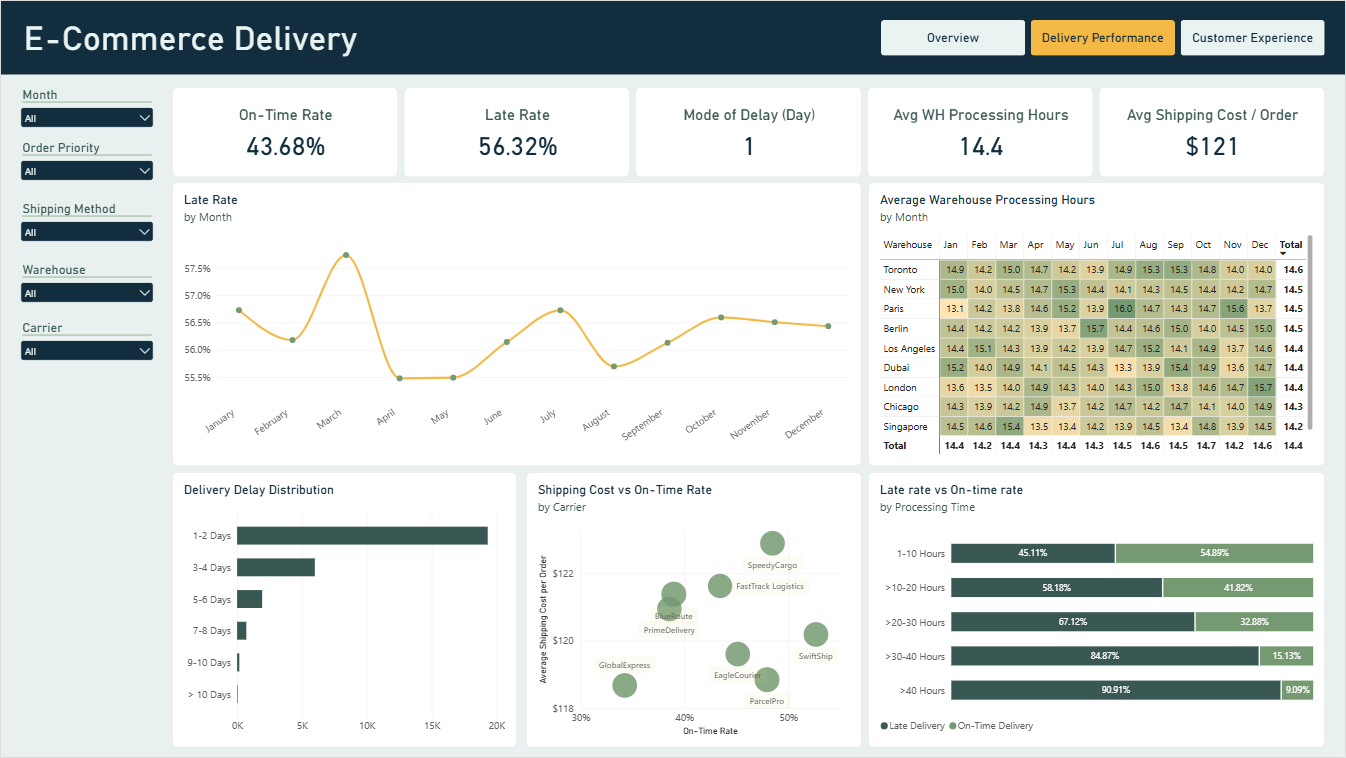

What the dashboard file says about the page in this screenshot:
{"tool":"powerbi","page":{"name":"Delivery Performance","canvas":[1920,1080],"ordinal":1},"visuals":[{"type":"cardVisual","fields":{"Data":["FactOrders.On-Time Rate","FactOrders.Late Rate","FactOrders.Filtered Mode","Avg(FactOrders.warehouse_processing_hours)","FactOrders.Avg Shipping Cost per Order"]},"box":[243.7,122.5,1647.7,129.1],"z":0},{"type":"pivotTable","title":"Average Warehouse Processing Hours","fields":{"Columns":["dimDate.Sort Month"],"Rows":["DimWarehouse.warehouse_city"],"Values":["Avg(FactOrders.warehouse_processing_hours)"]},"box":[1238,258.1,653.3,405.7],"z":1000},{"type":"scatterChart","title":"Shipping Cost vs On-Time Rate","fields":{"Category":["DimShippingCarrier.carrier"],"Size":["FactOrders.Total Orders"],"X":["FactOrders.On-Time Rate"],"Y":["FactOrders.Avg Shipping Cost per Order"]},"box":[749.4,673,480,394.3],"z":2000},{"type":"clusteredBarChart","title":"Delivery Delay Distribution","fields":{"Category":["FactOrders.Delay Days Group"],"Y":["CountNonNull(FactOrders.order_id)"]},"box":[243.7,673,492.6,393.8],"z":3000},{"type":"slicer","fields":{"Values":["FactOrders.shipping_method"]},"box":[22.4,285.1,200,81.7],"z":4000},{"type":"slicer","fields":{"Values":["FactOrders.order_priority"]},"box":[22.4,197.9,200.2,81.7],"z":5000},{"type":"lineChart","fields":{"Category":["dimDate.Month"],"Y":["FactOrders.Late Rate"]},"box":[243.7,258.1,985.2,405.7],"z":6000},{"type":"hundredPercentStackedBarChart","title":"Late rate vs On-time rate","fields":{"Category":["FactOrders.Processing Time Group"],"Y":["FactOrders.Total Late","FactOrders.Total On-Time"]},"box":[1238,673,653.3,393.8],"z":7000},{"type":"shape","box":[0,0,1920.3,105.4],"z":8000},{"type":"textbox","title":"E-Commerce Delivery","box":[32.9,23.7,513.7,60.6],"z":9000},{"type":"pageNavigator","box":[1256.5,27.7,634.8,51.4],"z":10000},{"type":"slicer","fields":{"Values":["DimWarehouse.warehouse_city"]},"box":[22.4,372.4,200.2,77.7],"z":11000},{"type":"slicer","fields":{"Values":["dimDate.Month"]},"box":[22.4,122.5,200.2,70],"z":12000},{"type":"slicer","fields":{"Values":["DimShippingCarrier.carrier"]},"box":[22.4,455.7,200.2,84.3],"z":13000}]}

Visuals, with their boxes in screenshot pixels (x1, y1, x2, y2), scaled from the page's 1920x1080 canvas onto the 1346x758 screenshot:
cardVisual - FactOrders.On-Time Rate x FactOrders.Late Rate: (x1=171, y1=86, x2=1326, y2=177)
"Average Warehouse Processing Hours" pivotTable: (x1=868, y1=181, x2=1326, y2=466)
"Shipping Cost vs On-Time Rate" scatterChart: (x1=525, y1=472, x2=862, y2=749)
"Delivery Delay Distribution" clusteredBarChart: (x1=171, y1=472, x2=516, y2=749)
slicer - FactOrders.shipping_method: (x1=16, y1=200, x2=156, y2=257)
slicer - FactOrders.order_priority: (x1=16, y1=139, x2=156, y2=196)
lineChart - dimDate.Month x FactOrders.Late Rate: (x1=171, y1=181, x2=862, y2=466)
"Late rate vs On-time rate" hundredPercentStackedBarChart: (x1=868, y1=472, x2=1326, y2=749)
shape: (x1=0, y1=0, x2=1345, y2=74)
"E-Commerce Delivery" textbox: (x1=23, y1=17, x2=383, y2=59)
pageNavigator: (x1=881, y1=19, x2=1326, y2=56)
slicer - DimWarehouse.warehouse_city: (x1=16, y1=261, x2=156, y2=316)
slicer - dimDate.Month: (x1=16, y1=86, x2=156, y2=135)
slicer - DimShippingCarrier.carrier: (x1=16, y1=320, x2=156, y2=379)
